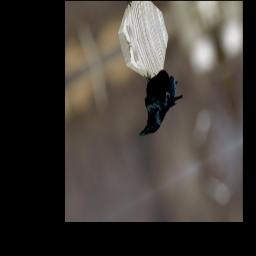Crow: (126, 58, 187, 140)
